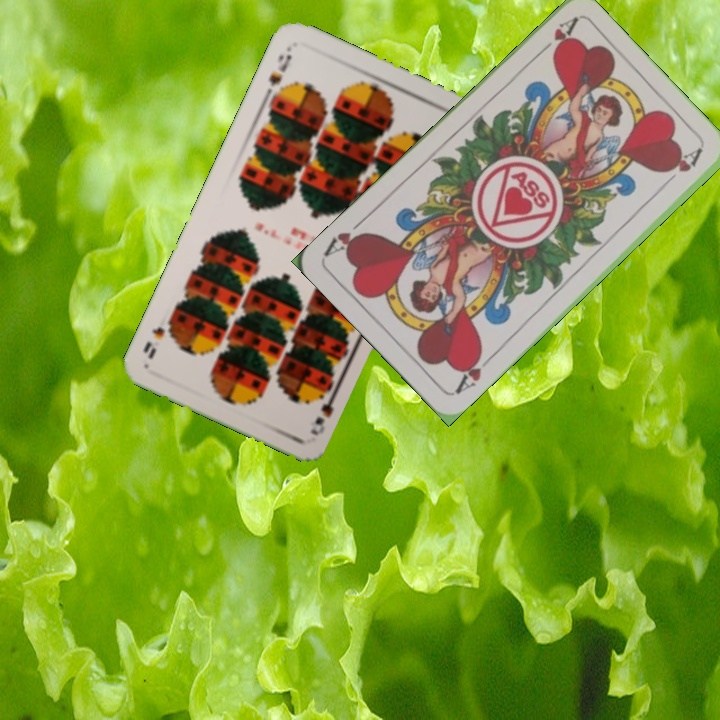HA: (451, 346, 497, 397), (531, 15, 579, 60)
S9: (262, 42, 295, 98), (311, 381, 341, 428)
